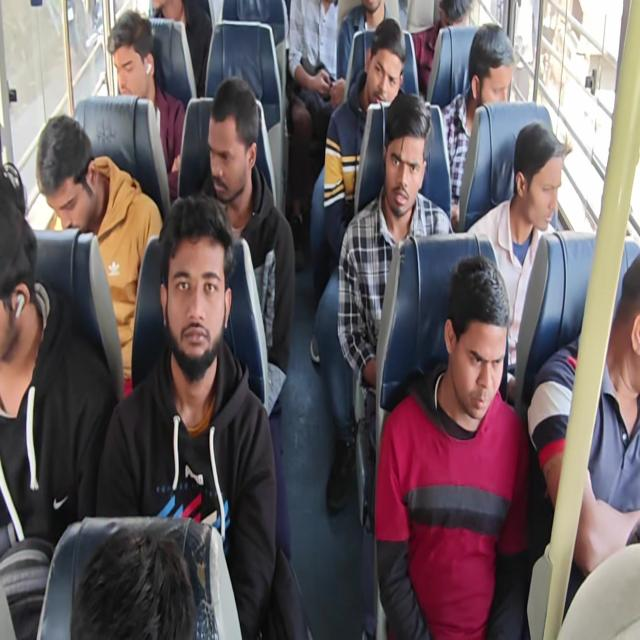person: (81, 512, 236, 640), (156, 231, 242, 377), (438, 303, 512, 444), (193, 96, 260, 205), (0, 189, 40, 365), (98, 13, 161, 104), (515, 122, 567, 230), (44, 137, 95, 229), (384, 112, 425, 213), (468, 33, 515, 113), (616, 265, 640, 396), (364, 30, 403, 110), (436, 0, 470, 45), (356, 0, 381, 30), (148, 0, 176, 19)
